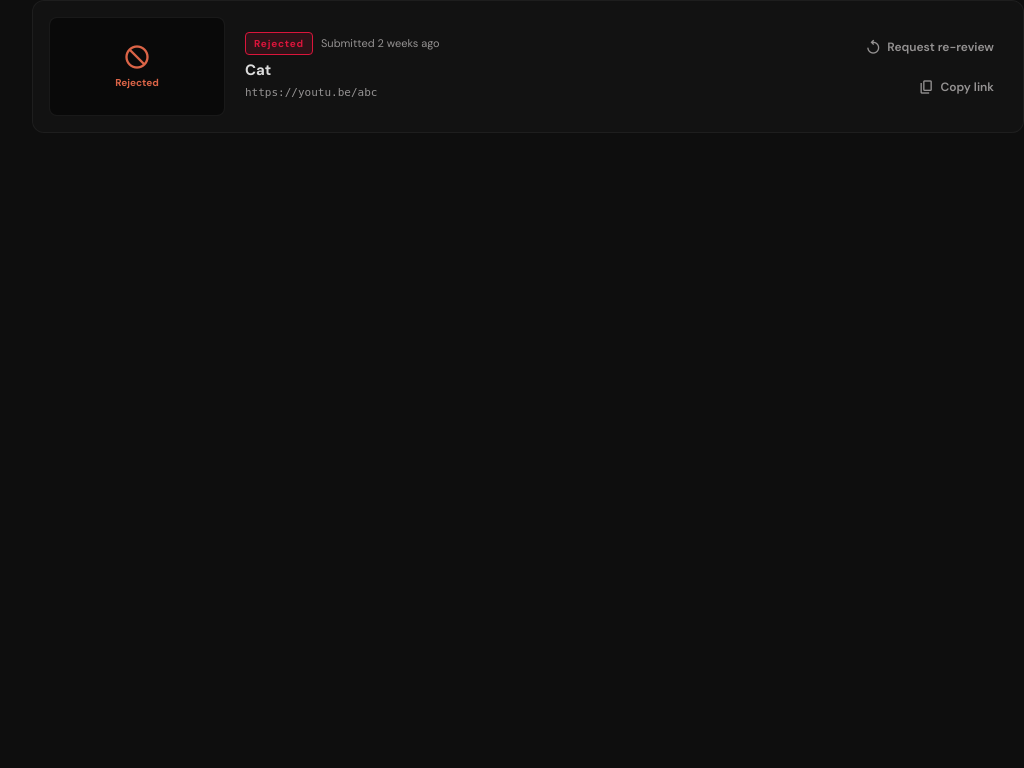
it: SuggestionCard re-review › shows a translated error and keeps the dialog open
This screenshot has width=1024, height=768.
What coordinates should you click on to do the following:
click the button "Request re-review"
I would click on:
 (930, 46)
Its box is left=852, top=30, right=1007, bottom=62.
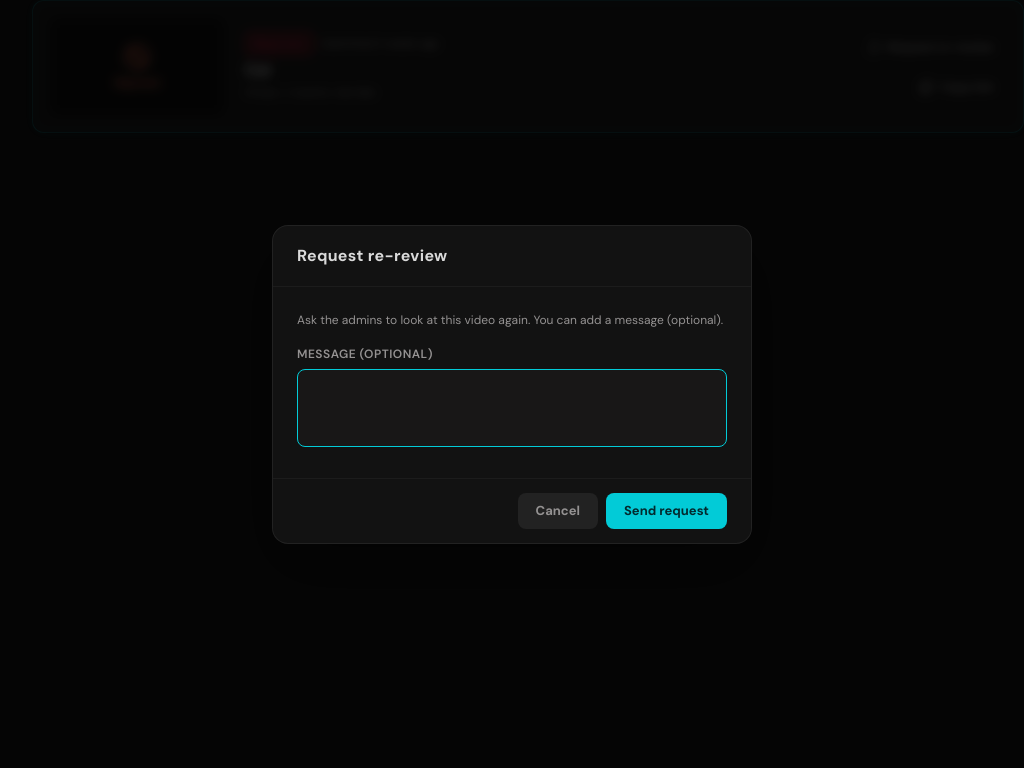
What coordinates should you click on to do the following:
click the button "Send request"
I would click on:
 (666, 511)
Its box is left=606, top=493, right=727, bottom=528.
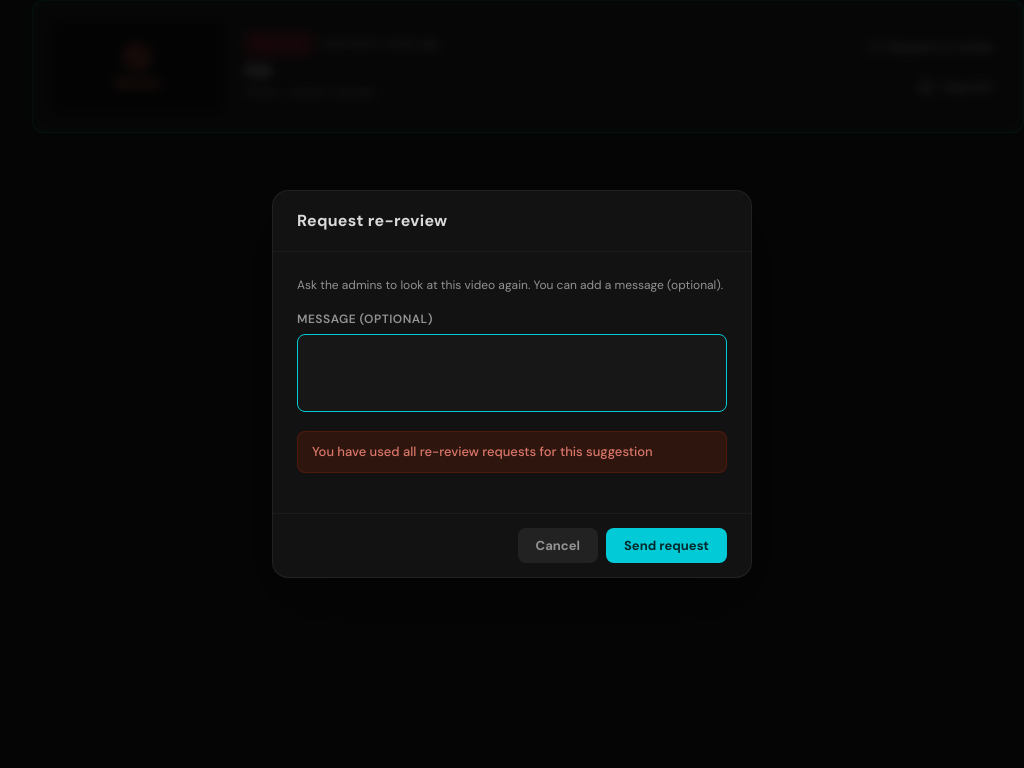
Check: the dialog is shown, box left=272, top=190, right=752, bottom=578
Check: the text "You have used all re-review requests for this suggestion" is shown, box left=297, top=431, right=727, bottom=473
